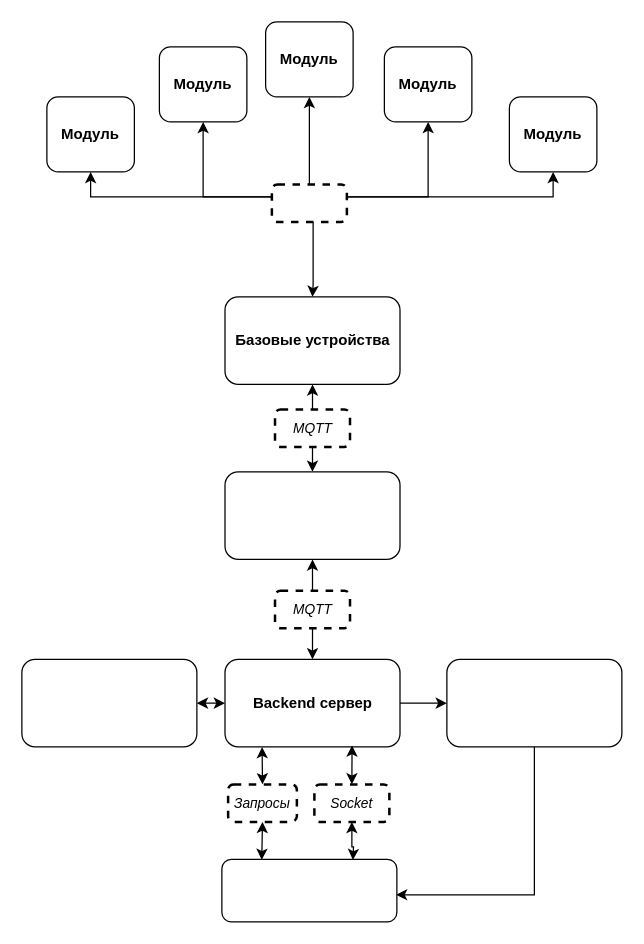
Image size: 644x944. Some labels were removed from this diagram. The box of each missing label's shape, as (x1, y1, x2, y2) in pixels:
433MHz: (270, 182, 348, 222)
Firebase: (446, 658, 622, 747)
MQTT броккер: (224, 471, 400, 559)
PWA приложение: (221, 858, 397, 922)
База данных PostgreSQL: (21, 658, 197, 747)
